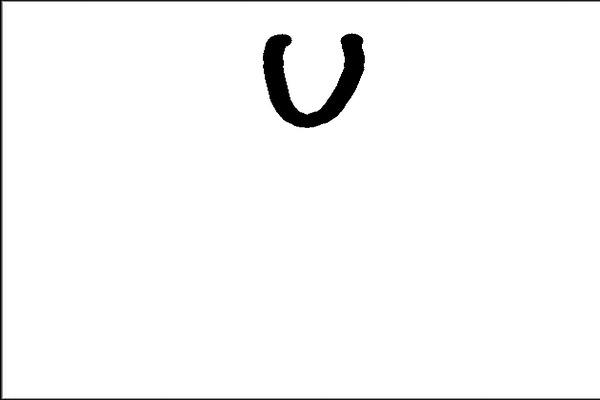U: (257, 18, 377, 130)
